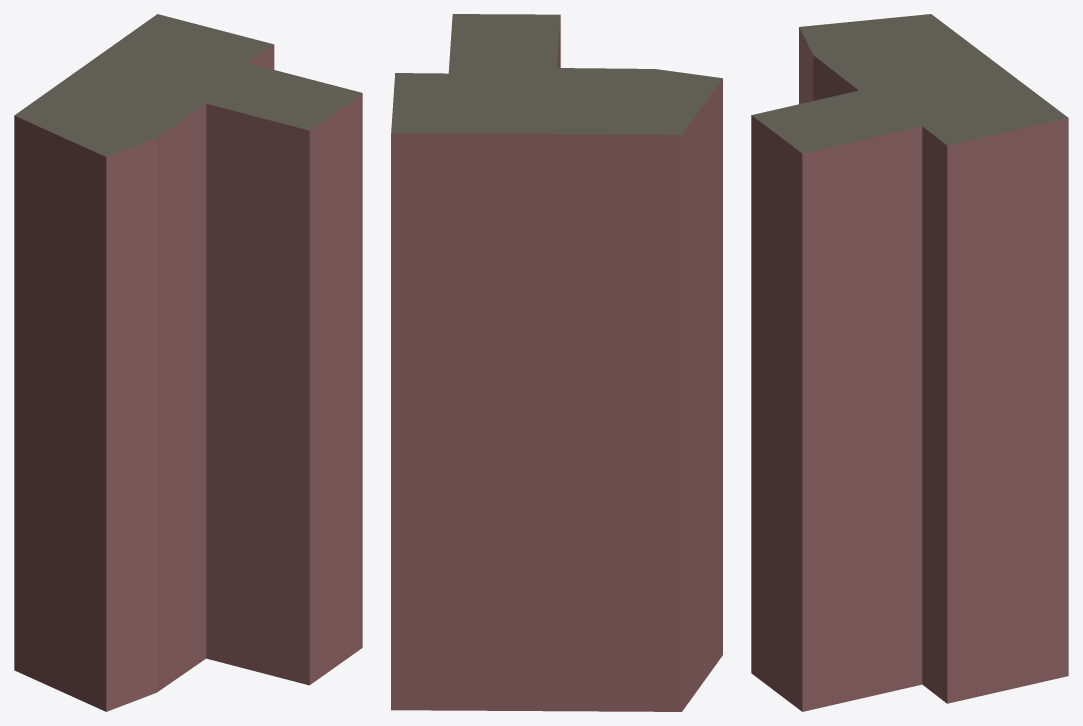
The model's file is nyc-1015266-0.glb.
The picture shows the model from 3 angles, left to right: view 1: azimuth 30°, elevation 25°; view 2: azimuth 150°, elevation 25°; view 3: azimuth 270°, elevation 25°; orthographic projection. The views are drawn at different scales.
Visible parts, largest first — view 1: nyc-1015266-0; view 2: nyc-1015266-0; view 3: nyc-1015266-0.
Part boxes in pixels (<box>): nyc-1015266-0: <box>14,14,362,711</box>; nyc-1015266-0: <box>391,14,722,711</box>; nyc-1015266-0: <box>751,14,1068,711</box>.
Size of the model in its own units: 71.24 by 133 by 68.32.
